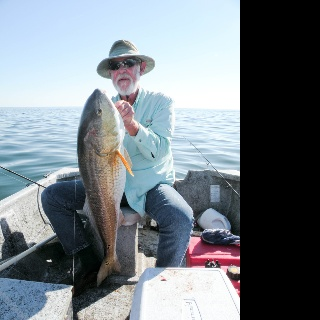without_mask: (108, 56, 146, 92)
